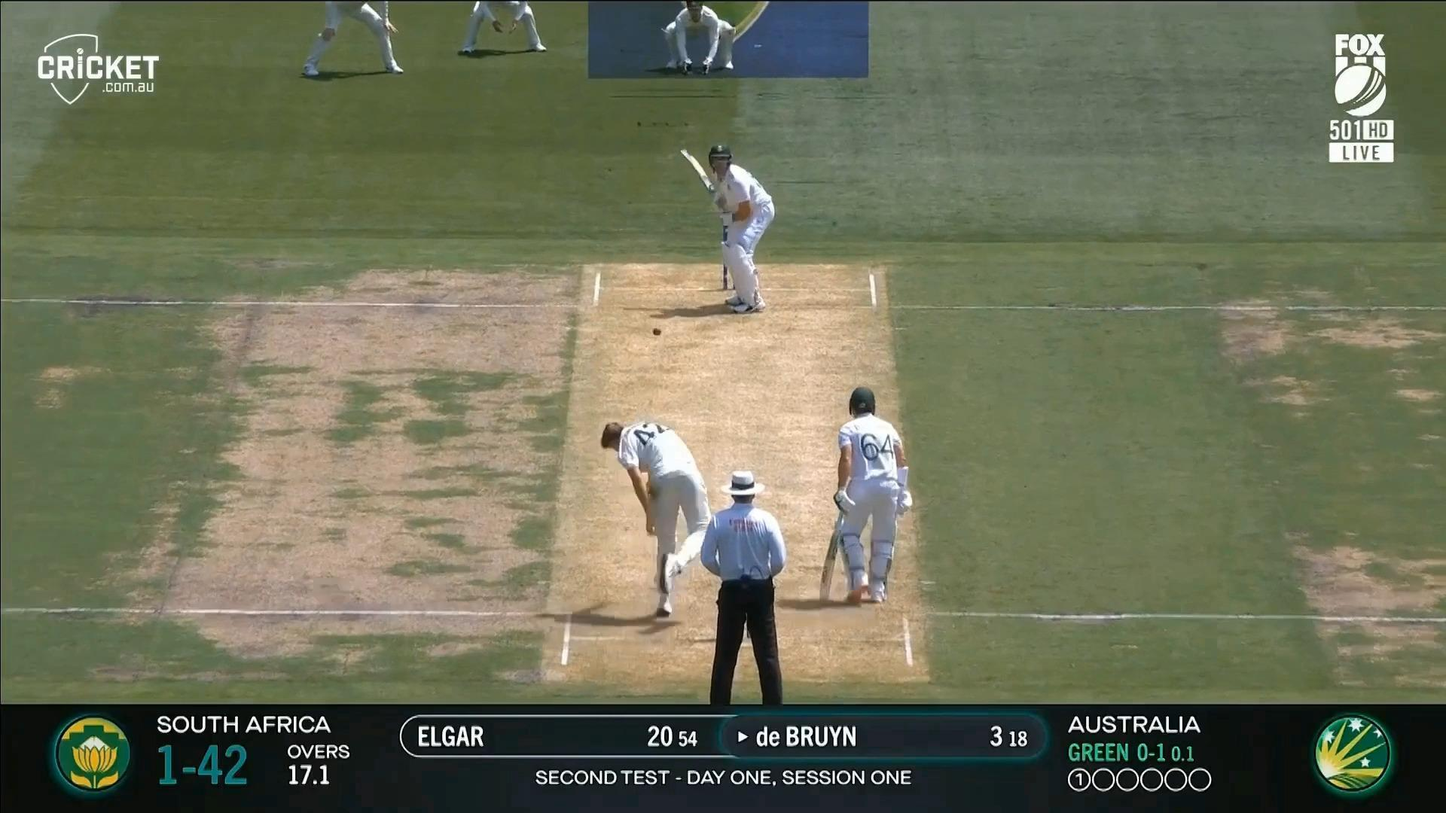BM 1: (680, 144, 776, 314)
BO: (599, 418, 712, 617)
